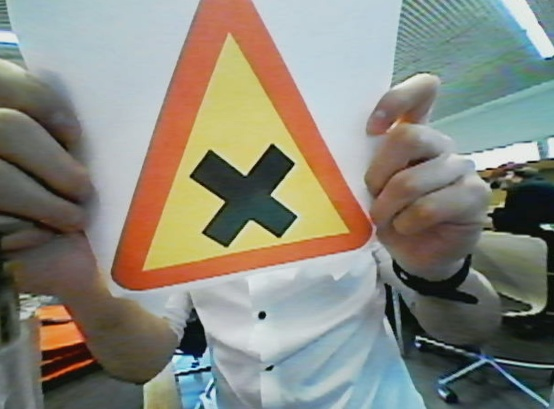junction: (120, 1, 372, 297)
